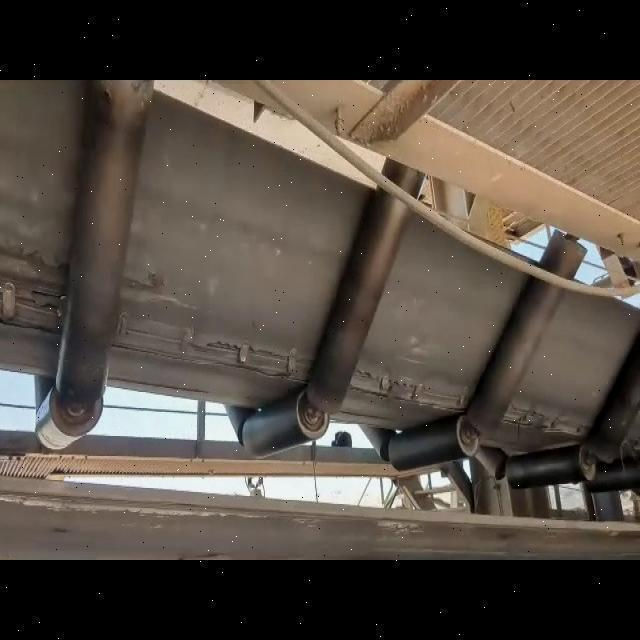Tear: (110, 310, 316, 388), (350, 358, 470, 422), (507, 390, 592, 447), (0, 283, 67, 342)
Wear: (118, 261, 199, 317), (0, 231, 70, 294)
